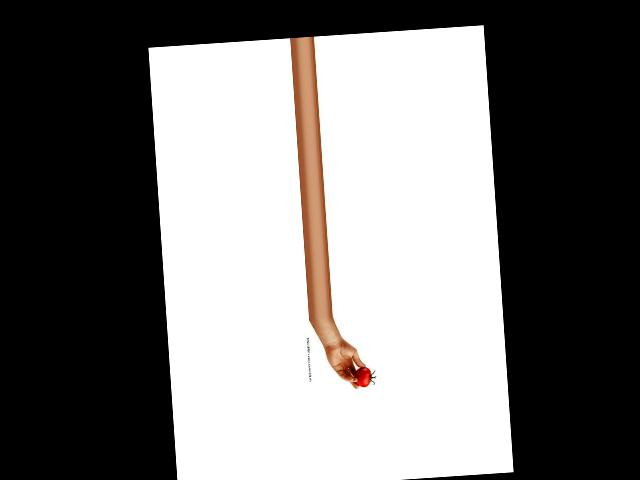tomato: (353, 366, 371, 387)
